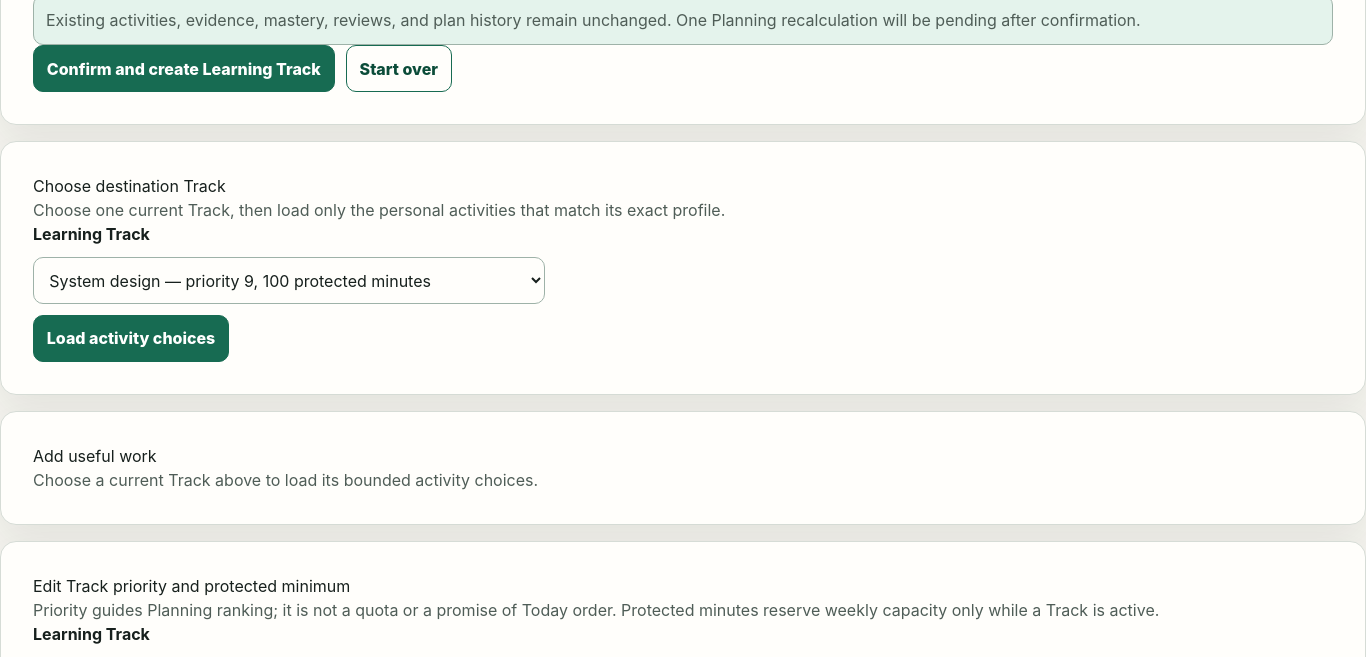
Test: PlanWorkspace › changing the activity destination dismisses a Track creation confirmation
(page scrolled)
Expected: the button "Confirm and create Learning Track" is enabled, [33,46,335,92]
Expected: the element "Choose destination Track" is shown, [0,141,1365,395]
Select "Algorithms — priority 8, 80 protected minutes" in the dropdown labelled "Learning Track" below "Choose destination Track" at [289, 281], box [33,257,545,304]
(page scrolled)
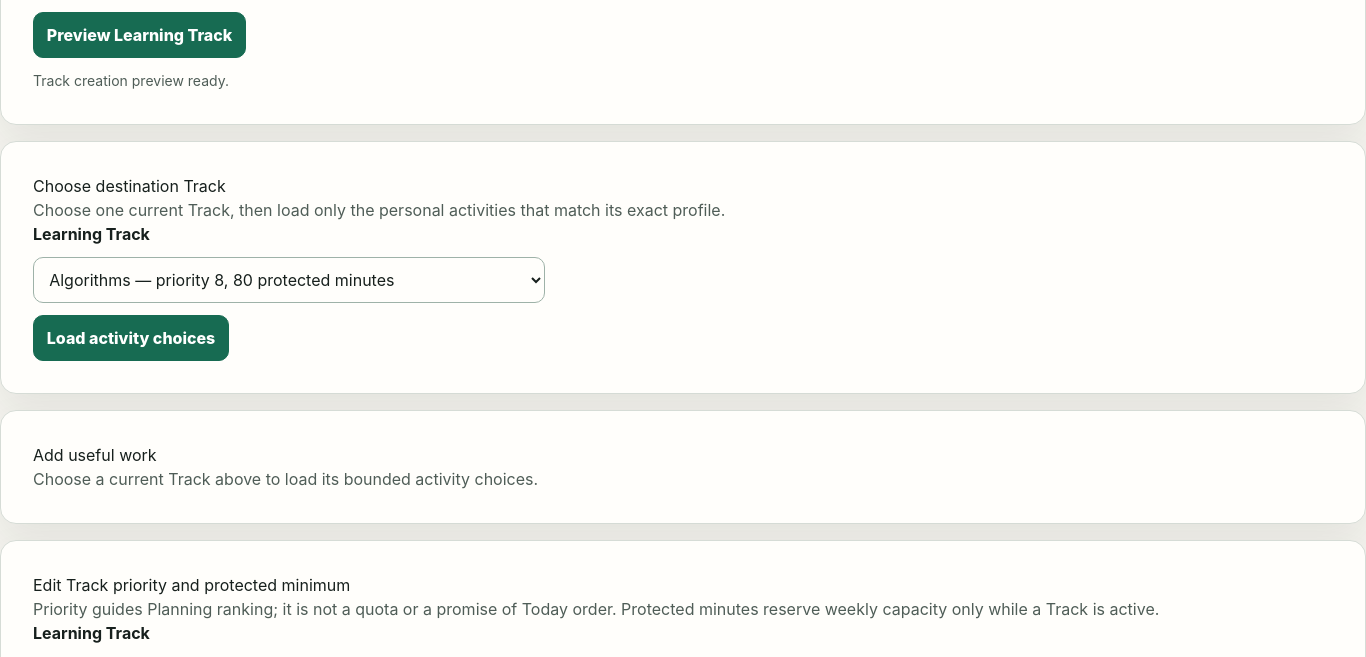
Expected: the button "Confirm and create Learning Track" is gone
